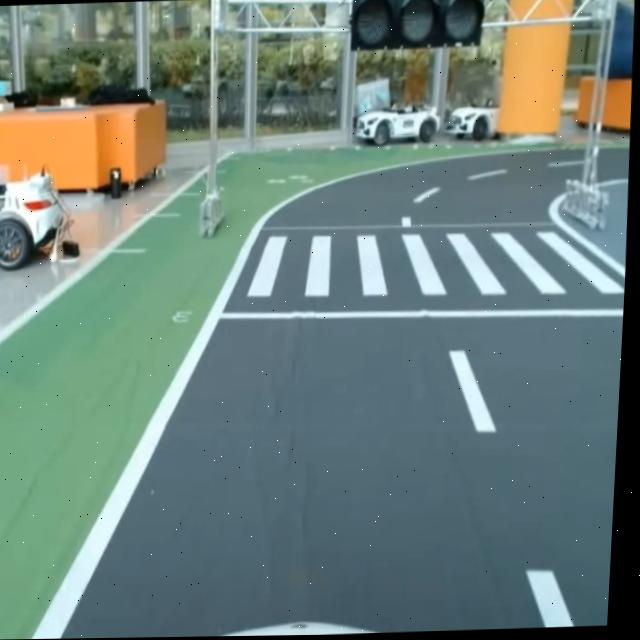traffic-light: (343, 0, 488, 62)
